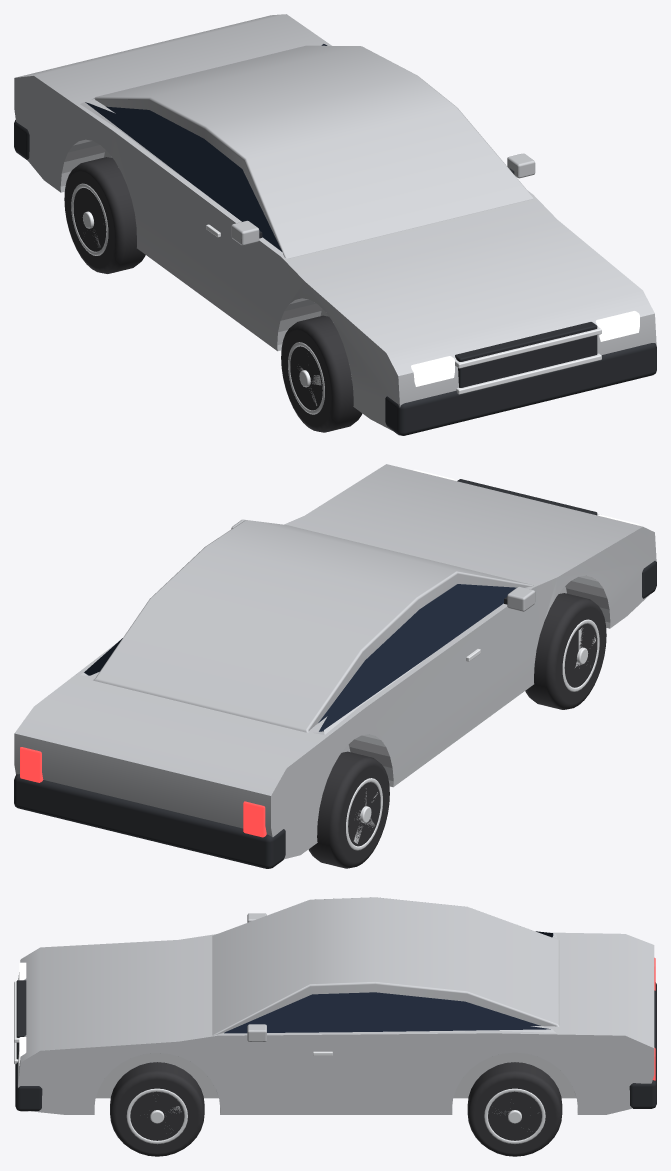
The model's file is coupe.glb.
3 renders of one model, top to bottom at view 1: azimuth 30°, elevation 25°; view 2: azimuth 150°, elevation 25°; view 3: azimuth 270°, elevation 25°, orthographic. The views are drawn at different scales.
Parts seen in each view (by area): view 1: body_paint, body_trim, wheel_RR, wheel_FR; view 2: body_paint, body_trim, wheel_RR, wheel_FR; view 3: body_paint, body_trim, wheel_RL, wheel_FL.
Boxes of the visible parts, x1,y1,x2,y2 form: body_paint: (14,14,656,431); body_trim: (14,44,656,435); wheel_RR: (64,157,145,273); wheel_FR: (281,315,362,432); body_paint: (14,464,656,859); body_trim: (14,469,656,868); wheel_RR: (308,751,389,868); wheel_FR: (525,593,606,709); body_paint: (18,897,654,1114); body_trim: (14,931,656,1111); wheel_RL: (467,1062,562,1156); wheel_FL: (110,1062,204,1156).
Bounding box in the file's own units: 2.13 × 1.38 × 4.89.
